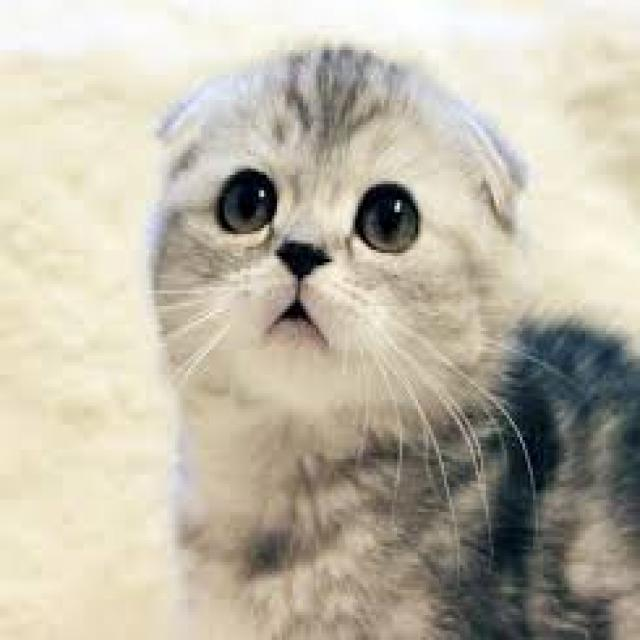cat-face: (107, 35, 610, 567)
